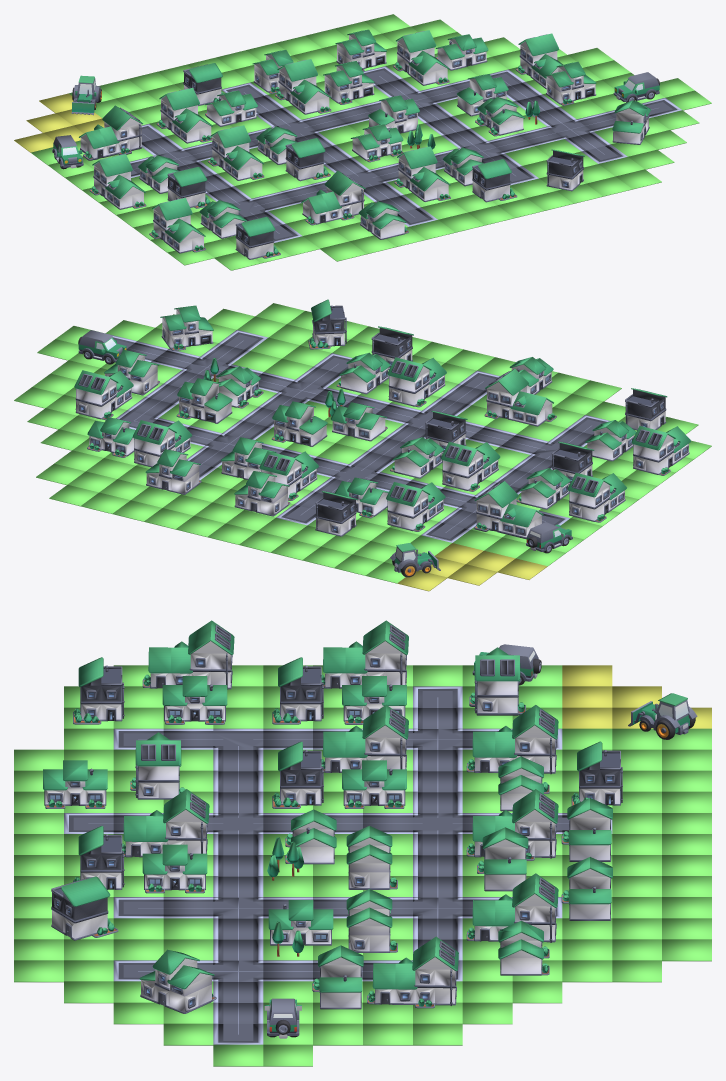
Rendered from tutorial_01.glb.
3 views of the same model, one above another, from view 1: azimuth 30°, elevation 25°; view 2: azimuth 150°, elevation 25°; view 3: azimuth 270°, elevation 25° (orthographic). The views are drawn at different scales.
Visible parts, largest first — view 1: building-type-b.009, building-type-b.004, building-type-b.003, building-type-b.013, building-type-b.015, building-type-b.002, building-type-b, building-type-b.011, building-type-b.001, building-type-b.019, building-type-c.021, building-type-c.017 (+99 smaller); view 2: building-type-b.004, building-type-b.009, building-type-b.011, building-type-b, building-type-b.001, building-type-b.002, building-type-b.019, building-type-b.003, building-type-b.015, building-type-c.005, building-type-c.001, building-type-c.016 (+111 smaller); view 3: building-type-b.019, building-type-b.002, building-type-b.011, building-type-b, building-type-b.003, building-type-b.001, building-type-b.015, building-type-b.013, building-type-c.019, building-type-l.015, building-type-b.009, building-type-b.004 (+142 smaller).
Part boxes in pixels (x1,y1,x2,y2): building-type-b.009: (79,105,143,160); building-type-b.004: (301,170,365,225); building-type-b.003: (394,146,450,201); building-type-b.013: (275,59,331,114); building-type-b.015: (393,30,449,85); building-type-b.002: (149,198,205,253); building-type-b: (207,125,264,180); building-type-b.011: (156,88,212,143); building-type-b.001: (89,154,146,209); building-type-b.019: (515,33,562,89); building-type-c.021: (545,61,596,105); building-type-c.017: (323,61,374,104); building-type-b.004: (484,369,556,426); building-type-b.009: (474,481,543,539); building-type-b.011: (386,482,445,531); building-type-b: (441,441,500,491); building-type-b.001: (567,472,626,522); building-type-b.002: (631,426,690,475); building-type-b.019: (74,370,133,420); building-type-b.003: (387,357,446,407); building-type-b.015: (133,420,192,467); building-type-c.005: (176,378,232,423); building-type-c.001: (271,401,327,446); building-type-c.016: (145,449,201,494); building-type-b.019: (367,936,458,1008); building-type-b.002: (142,620,234,689); building-type-b.011: (466,705,558,774); building-type-b: (321,704,408,772); building-type-b.003: (122,789,209,857); building-type-b.001: (321,620,408,688); building-type-b.015: (466,873,558,942); building-type-b.013: (466,789,558,860); building-type-c.019: (139,949,216,1013); building-type-l.015: (51,876,118,940); building-type-b.009: (469,647,525,715); building-type-b.004: (130,732,185,799).
Bounding box in the file's own units: 19 × 1.34 × 14.
Materials: 25 (23 with a texture image).
